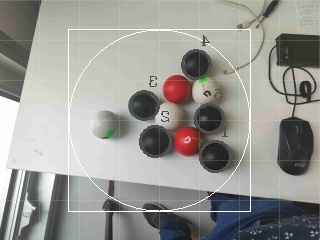Pelota blanca: (268, 33, 320, 105), (0, 0, 41, 40), (90, 109, 121, 141), (155, 101, 187, 130), (191, 77, 223, 105)
Pelota negra: (278, 117, 315, 177), (198, 139, 231, 174), (128, 89, 161, 123), (138, 125, 171, 159), (179, 47, 213, 78), (160, 213, 195, 240), (194, 103, 225, 132)
Pelota roja: (161, 73, 193, 105), (174, 125, 201, 156)
